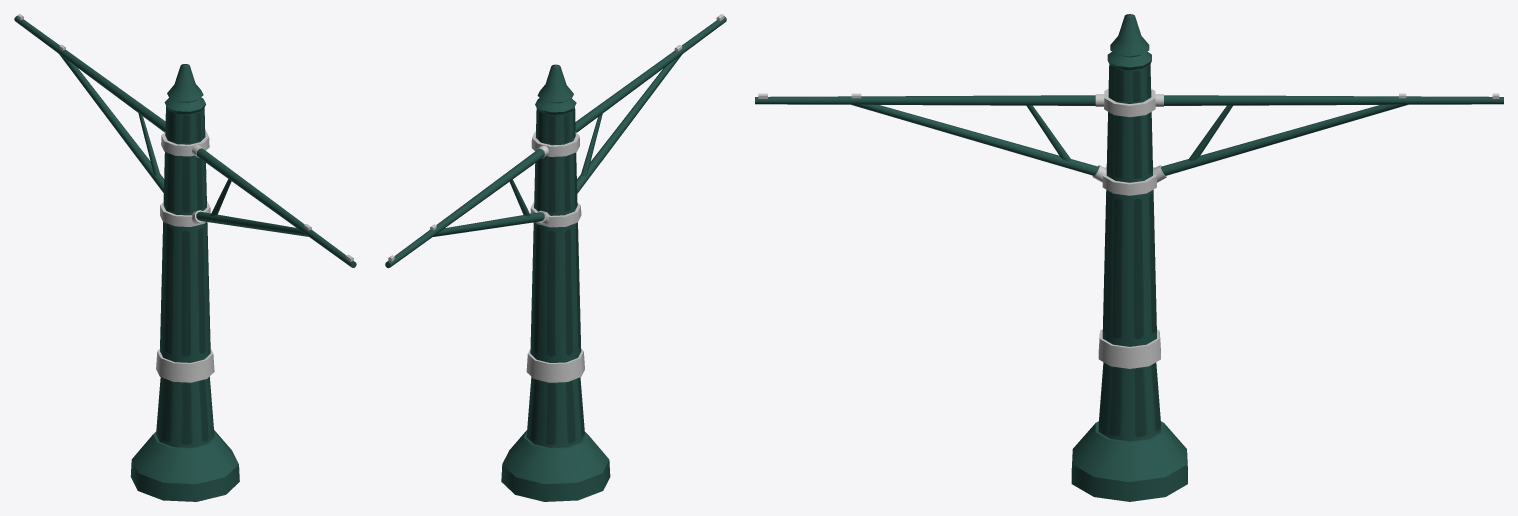
The model's file is TraxPost.fbx.
The picture shows the model from 3 angles, left to right: view 1: azimuth 30°, elevation 25°; view 2: azimuth 150°, elevation 25°; view 3: azimuth 270°, elevation 25°; orthographic projection. The views are drawn at different scales.
Parts seen in each view (by area): view 1: TraxPost; view 2: TraxPost; view 3: TraxPost.
Part boxes in pixels (bbox=[...]): TraxPost: bbox=[14, 14, 356, 501]; TraxPost: bbox=[385, 14, 726, 501]; TraxPost: bbox=[755, 14, 1503, 501].
Size of the model in its own units: 2.65 by 11.06 by 16.26.
